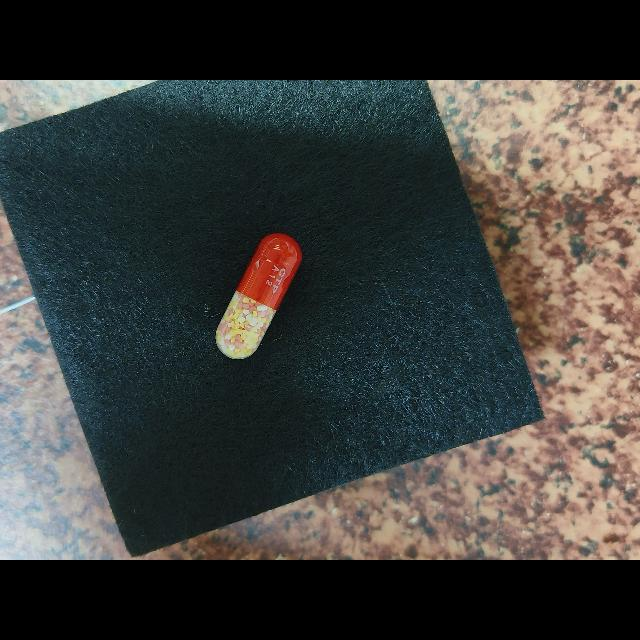Intact Capsule: (216, 233, 302, 359)
